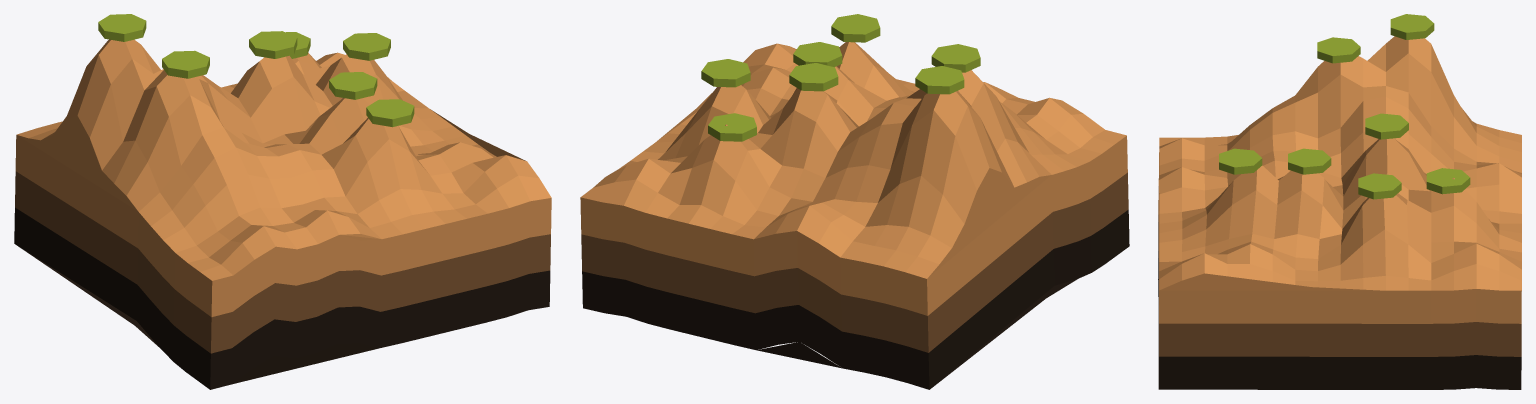
File: maplvlv3.fbx
The picture shows the model from 3 angles, left to right: view 1: azimuth 30°, elevation 25°; view 2: azimuth 150°, elevation 25°; view 3: azimuth 270°, elevation 25°; orthographic projection. The views are drawn at different scales.
Parts seen in each view (by area): view 1: Montanha, lvl4, lvl3, lvl6, lvl2, lvl0, lvl5; view 2: Montanha, lvl3, lvl0, lvl6, lvl4, lvl1, lvl5, lvl2; view 3: Montanha, lvl6, lvl1, lvl5, lvl4, lvl0, lvl3, lvl2.
Part boxes in pixels (x1,y1,x2,y2): Montanha: (14,39,551,389); lvl4: (249,31,297,58); lvl3: (366,99,414,127); lvl6: (98,14,146,41); lvl2: (329,72,377,99); lvl0: (343,33,390,60); lvl5: (162,50,209,78); Montanha: (580,42,1129,389); lvl3: (831,14,880,42); lvl0: (701,59,750,87); lvl6: (915,66,964,94); lvl4: (789,63,838,91); lvl1: (708,113,756,141); lvl5: (931,44,980,72); lvl2: (793,42,842,67); Montanha: (1158,36,1521,389); lvl6: (1390,14,1434,39); lvl1: (1426,168,1470,194); lvl5: (1317,37,1360,63); lvl4: (1365,113,1408,139); lvl0: (1358,173,1401,199); lvl3: (1219,148,1262,174); lvl2: (1288,148,1331,174).
Bounding box in the file's own units: 15.95 × 11.35 × 15.9.
